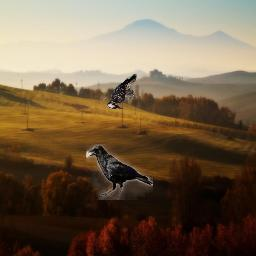Crow: (87, 144, 154, 200)
Woodpecker: (103, 73, 137, 110)
